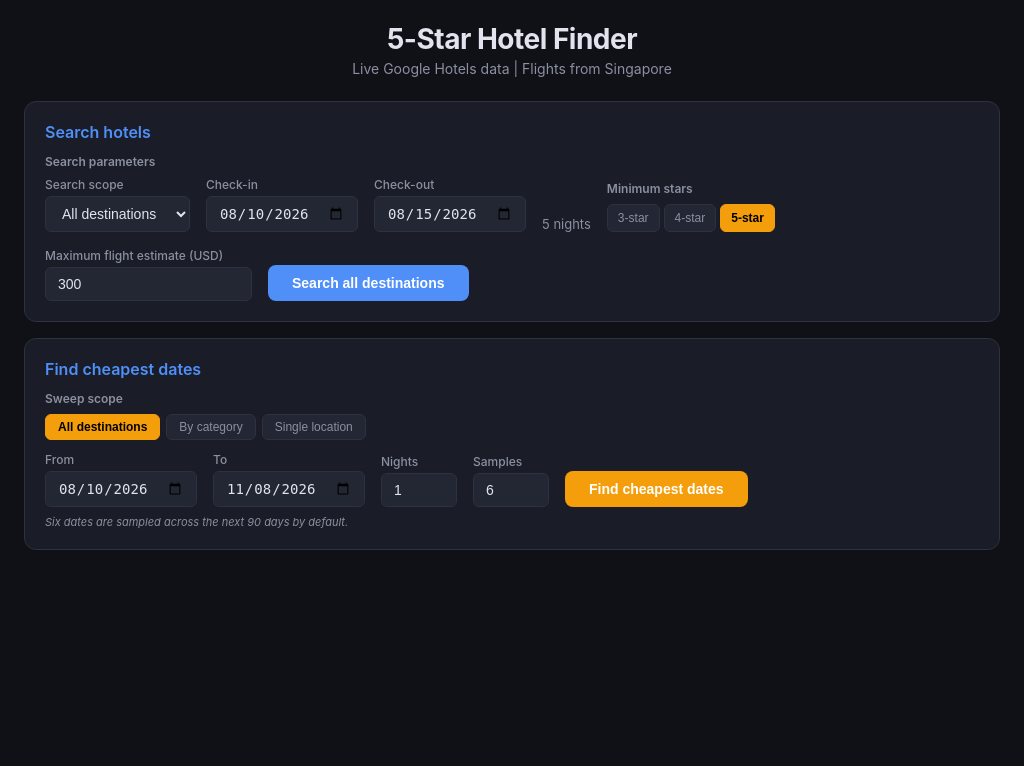
Scenario: background date sweeps › applies a completed DELETE snapshot while aborting its hanging poll
Click the button "Find cheapest dates".
click(656, 489)  # box [565,471,748,507]
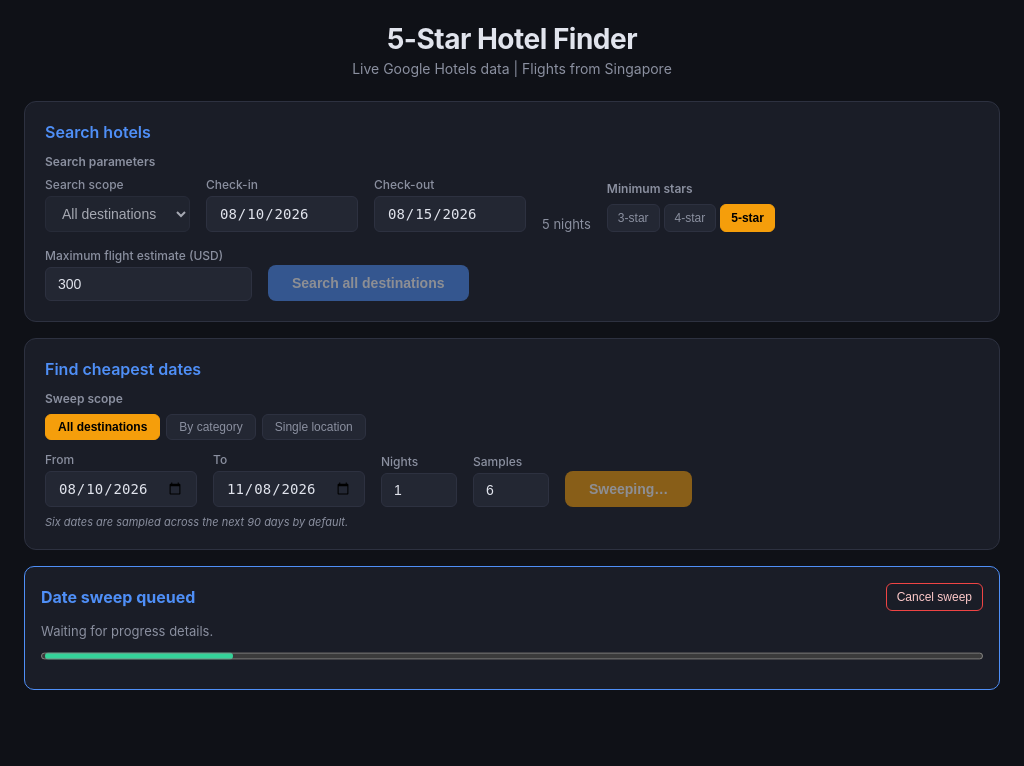
Click the button "Cancel sweep".
click(934, 597)  # box [886,583,983,611]
(page scrolled)
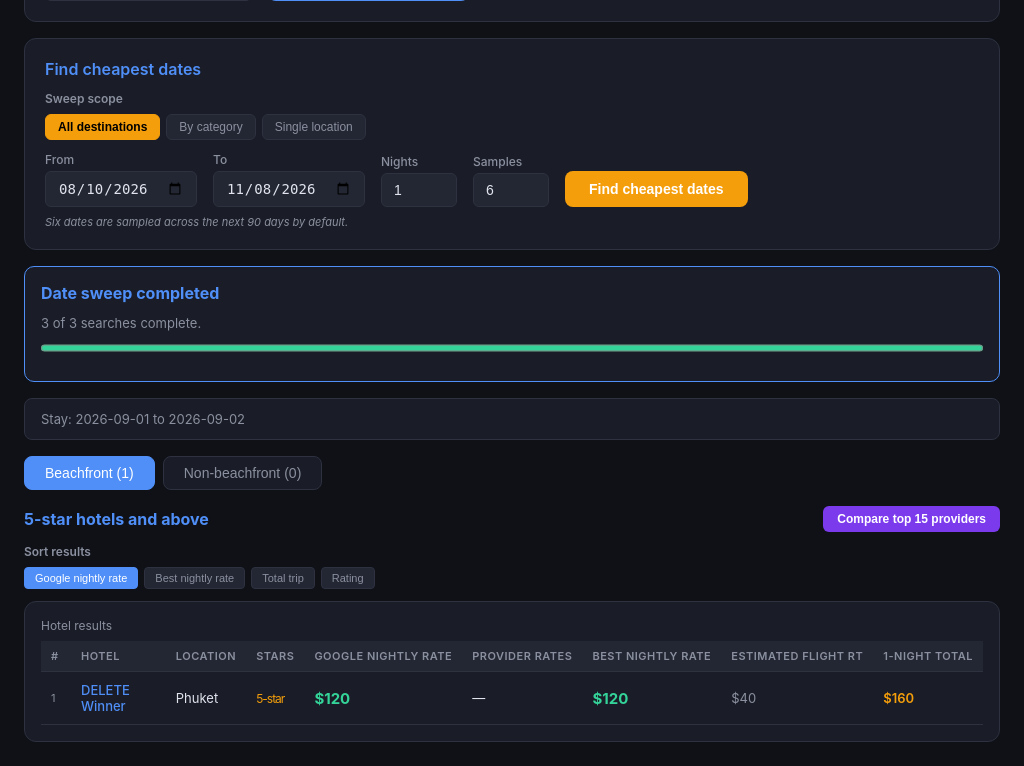
Expected: the heading "Date sweep completed" is shown, [41,283,219,303]
Expected: the link "DELETE Winner" is shown, [81,682,130,714]
